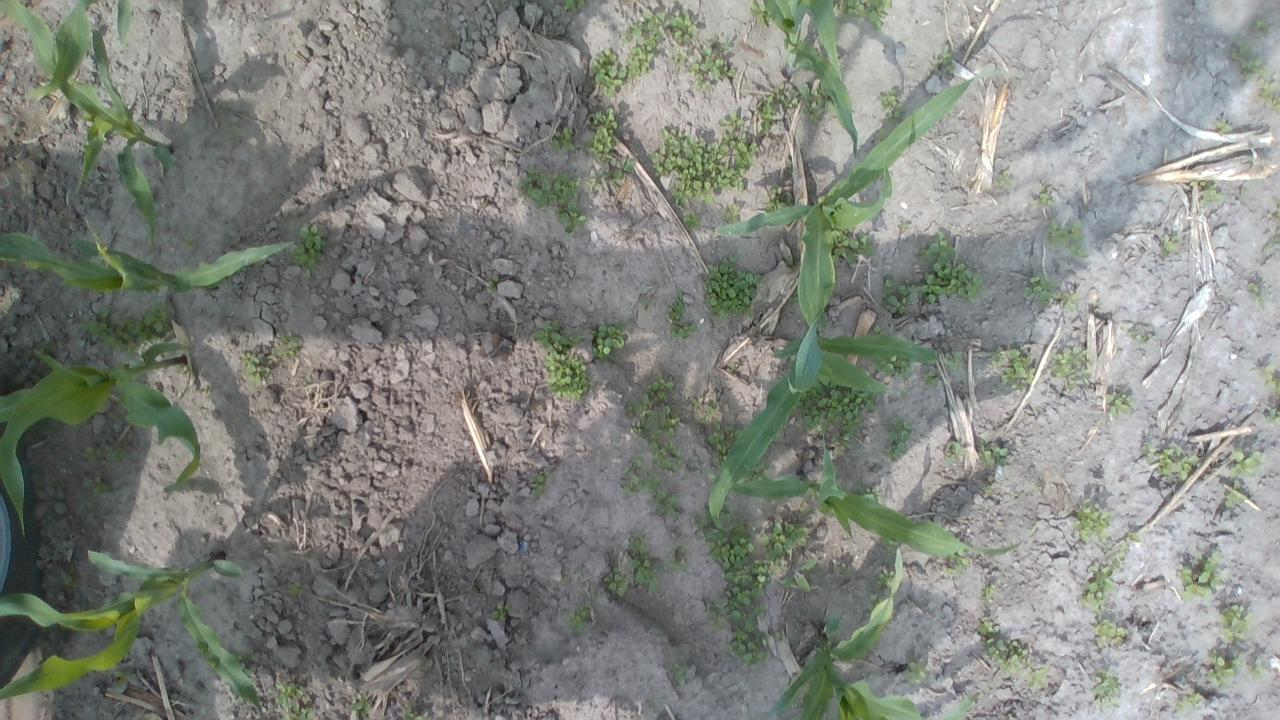Maize: (713, 68, 1020, 397), (705, 336, 962, 534), (0, 0, 180, 267), (705, 428, 1043, 562), (0, 548, 264, 718), (756, 545, 984, 719), (0, 348, 204, 540), (3, 206, 297, 298), (748, 0, 858, 162)
Weeds: (698, 502, 811, 666), (646, 112, 752, 209), (586, 10, 696, 100), (882, 229, 982, 317), (979, 579, 1054, 692), (622, 372, 690, 472), (603, 530, 695, 598), (530, 318, 593, 400), (514, 165, 588, 234), (577, 106, 636, 189), (80, 298, 176, 348), (796, 381, 869, 444), (752, 82, 834, 138), (620, 458, 689, 524), (701, 253, 760, 317), (240, 326, 304, 385), (1227, 40, 1280, 110), (690, 397, 734, 478), (1174, 546, 1224, 602), (1140, 440, 1198, 485), (1208, 652, 1272, 692), (1018, 272, 1078, 314), (826, 228, 880, 266), (1048, 344, 1093, 388), (1048, 216, 1093, 260), (690, 41, 732, 88), (290, 222, 322, 282), (990, 348, 1034, 390), (666, 293, 698, 343), (270, 682, 314, 718), (1084, 559, 1117, 605), (834, 0, 894, 23), (1074, 504, 1110, 541), (924, 352, 965, 384), (1216, 604, 1252, 640), (870, 354, 915, 382), (80, 442, 128, 468), (595, 321, 627, 357), (1100, 389, 1136, 421), (869, 566, 896, 608), (1092, 619, 1130, 647), (1123, 320, 1160, 348), (1230, 447, 1266, 474), (876, 88, 904, 122), (764, 187, 796, 216), (1092, 678, 1124, 707), (982, 446, 1008, 476), (82, 472, 110, 499), (666, 660, 690, 691), (926, 46, 952, 74), (552, 126, 578, 154), (903, 658, 929, 686), (1200, 179, 1224, 208), (568, 606, 590, 637), (932, 556, 968, 574), (1178, 692, 1206, 715), (404, 698, 432, 720), (1263, 223, 1280, 258), (1224, 480, 1246, 507), (1250, 280, 1268, 312), (1114, 534, 1140, 556), (1030, 183, 1053, 207), (681, 209, 704, 232), (1161, 235, 1182, 260), (530, 468, 547, 498), (1260, 360, 1278, 388), (745, 464, 773, 481), (719, 208, 741, 228), (489, 600, 507, 622), (1264, 403, 1280, 426), (286, 580, 304, 598), (1214, 114, 1231, 133), (346, 698, 365, 712), (564, 1, 582, 12), (1254, 20, 1268, 34), (981, 487, 996, 499)
